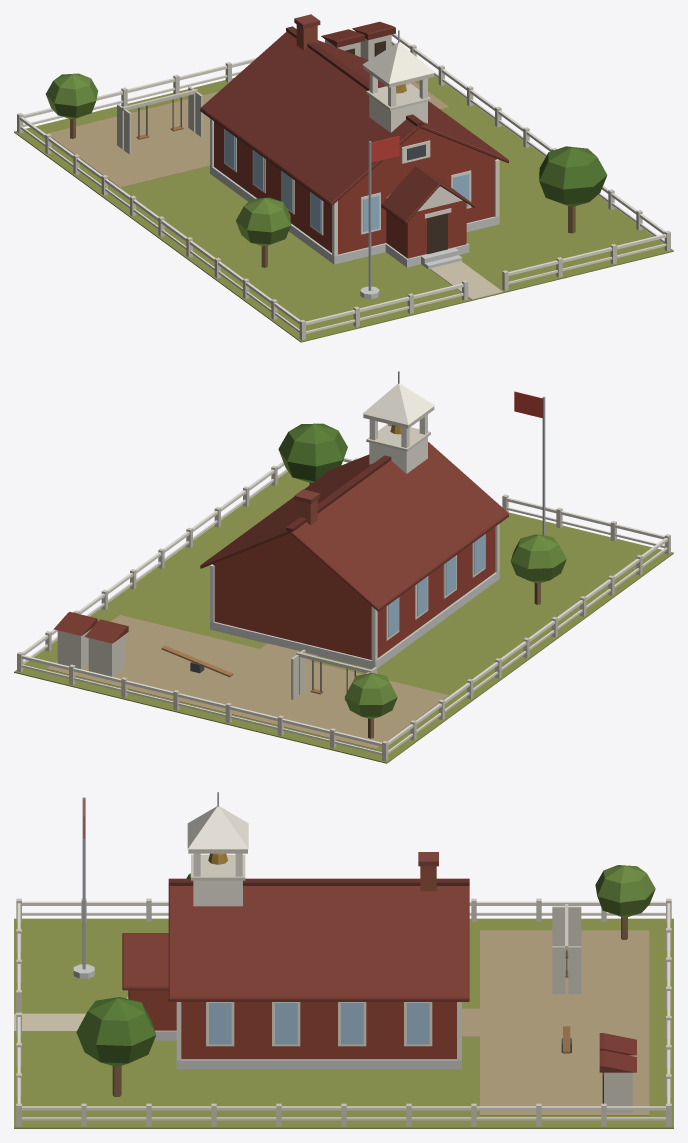
The model's file is schoolhouse.glb.
The picture shows the model from 3 angles, top to bottom: view 1: azimuth 30°, elevation 25°; view 2: azimuth 150°, elevation 25°; view 3: azimuth 270°, elevation 25°; orthographic projection. The views are drawn at different scales.
Parts seen in each view (by area): view 1: schoolhouse; view 2: schoolhouse; view 3: schoolhouse.
Boxes of the visible parts, x1,y1,x2,y2 form: schoolhouse: (14, 14, 673, 342); schoolhouse: (14, 371, 673, 763); schoolhouse: (14, 792, 673, 1128).
Size of the model in its own units: 24 by 12.4 by 32.
